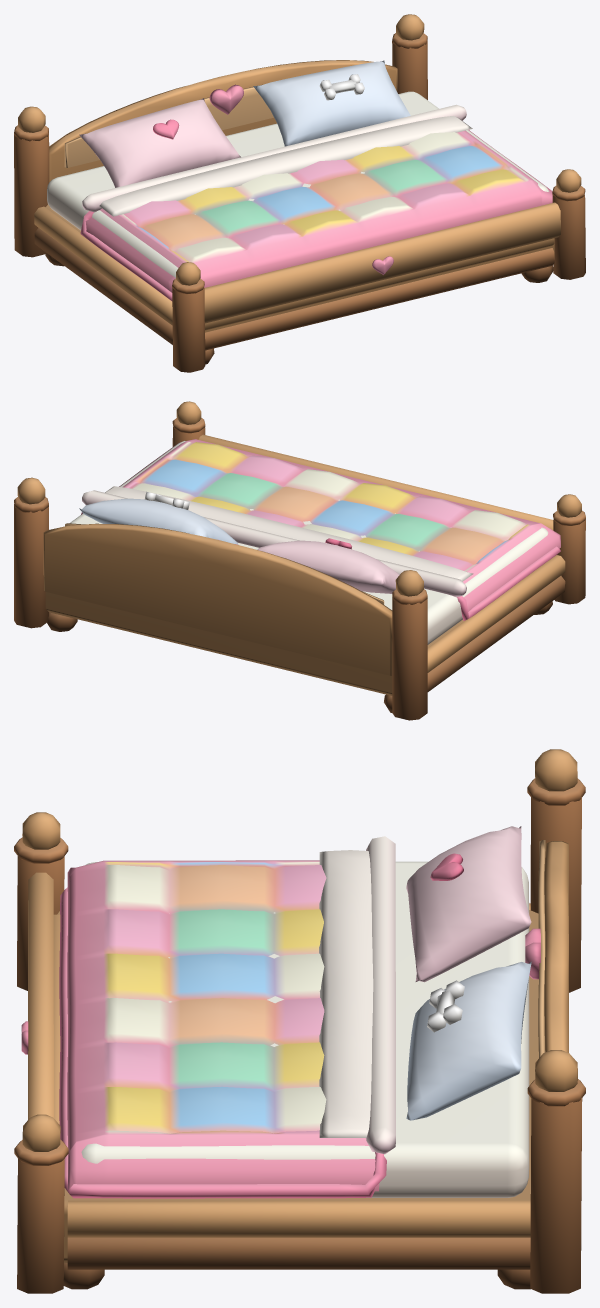
The model's file is furn-futonBed.glb.
3 views of the same model, one above another, from view 1: azimuth 30°, elevation 25°; view 2: azimuth 150°, elevation 25°; view 3: azimuth 270°, elevation 25° (orthographic). The views are drawn at different scales.
Parts seen in each view (by area): view 1: cloth, body; view 2: body, cloth; view 3: cloth, body.
Boxes of the visible parts, left/top/right/bottom form: cloth: left=47, top=60, right=552, bottom=301; body: left=14, top=14, right=585, bottom=372; body: left=14, top=401, right=585, bottom=720; cloth: left=70, top=439, right=560, bottom=644; cloth: left=59, top=826, right=531, bottom=1198; body: left=14, top=749, right=585, bottom=1293.
Size of the model in its own units: 1.97 by 0.697 by 1.47.
